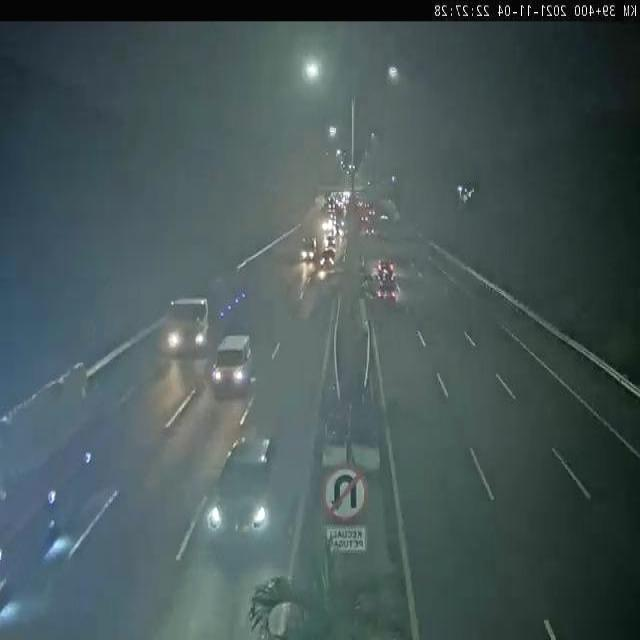Bus: (0, 370, 118, 640)
Car: (200, 417, 288, 554), (375, 273, 405, 308), (312, 245, 338, 278), (372, 261, 398, 283)
Truck: (147, 272, 256, 358)
Van: (208, 332, 259, 401)
